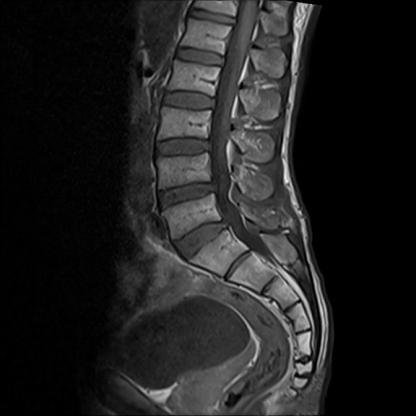Disc Bulgerotation: (169, 221, 241, 253)
